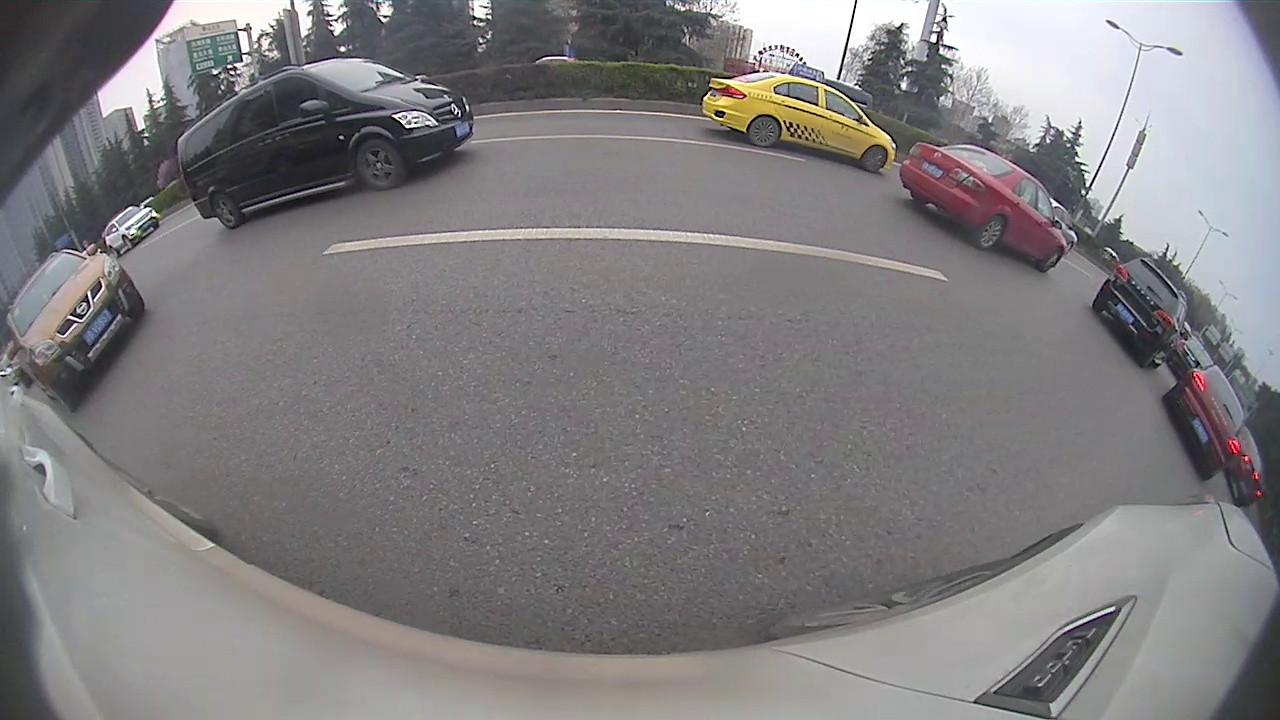car: (180, 57, 476, 229), (3, 250, 146, 413), (704, 60, 897, 176), (900, 140, 1067, 273), (1092, 247, 1188, 370), (1166, 358, 1243, 482), (99, 207, 163, 255)
front: (356, 141, 403, 191), (859, 145, 890, 172), (122, 235, 133, 248)
rear: (975, 216, 1005, 251), (211, 194, 241, 228), (748, 115, 782, 145)
